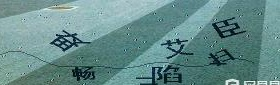chinese: (48, 25, 80, 51), (208, 15, 244, 38), (204, 44, 239, 67), (153, 62, 183, 85), (161, 37, 193, 58), (70, 62, 98, 80)
